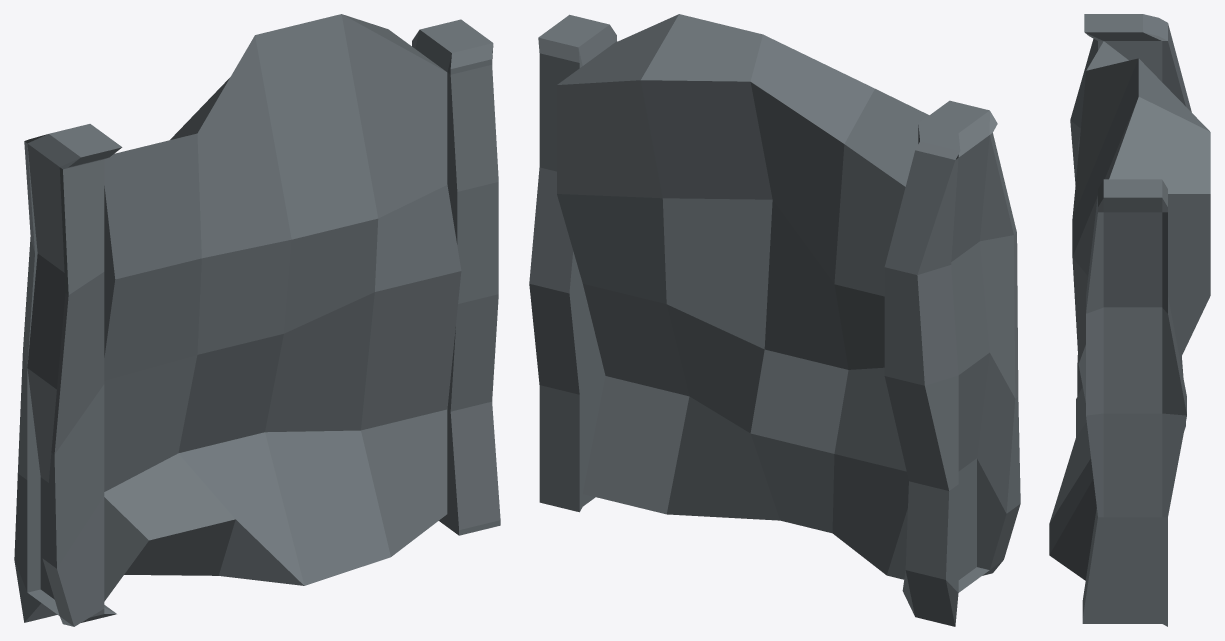
Rendered from Sucata02.fbx.
3 renders of one model, left to right at view 1: azimuth 30°, elevation 25°; view 2: azimuth 150°, elevation 25°; view 3: azimuth 270°, elevation 25°, orthographic. The views are drawn at different scales.
Visible parts, largest first — view 1: Cube; view 2: Cube; view 3: Cube.
Boxes of the visible parts, x1,y1,x2,y2 form: Cube: [14, 14, 500, 626]; Cube: [529, 14, 1020, 626]; Cube: [1049, 14, 1210, 626].
Size of the model in its own units: 210 by 244 by 71.98.
